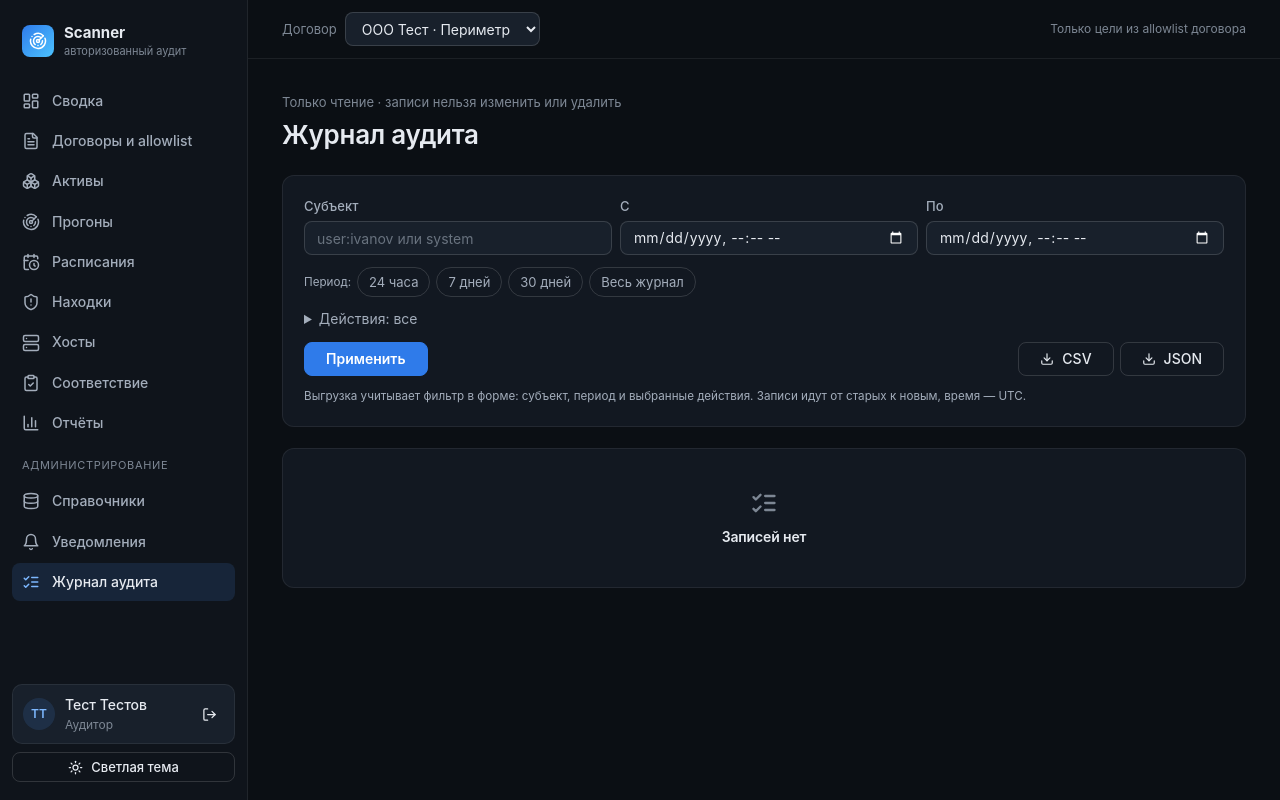
Test case: журнал аудита › не даёт выгрузить при перевёрнутом периоде
Expected: the heading "Записей нет" is shown, left=722, top=527, right=806, bottom=547
Type "2026-10-05T10:00" into the field labelled "С" at x=769, y=238, box left=620, top=221, right=918, bottom=255
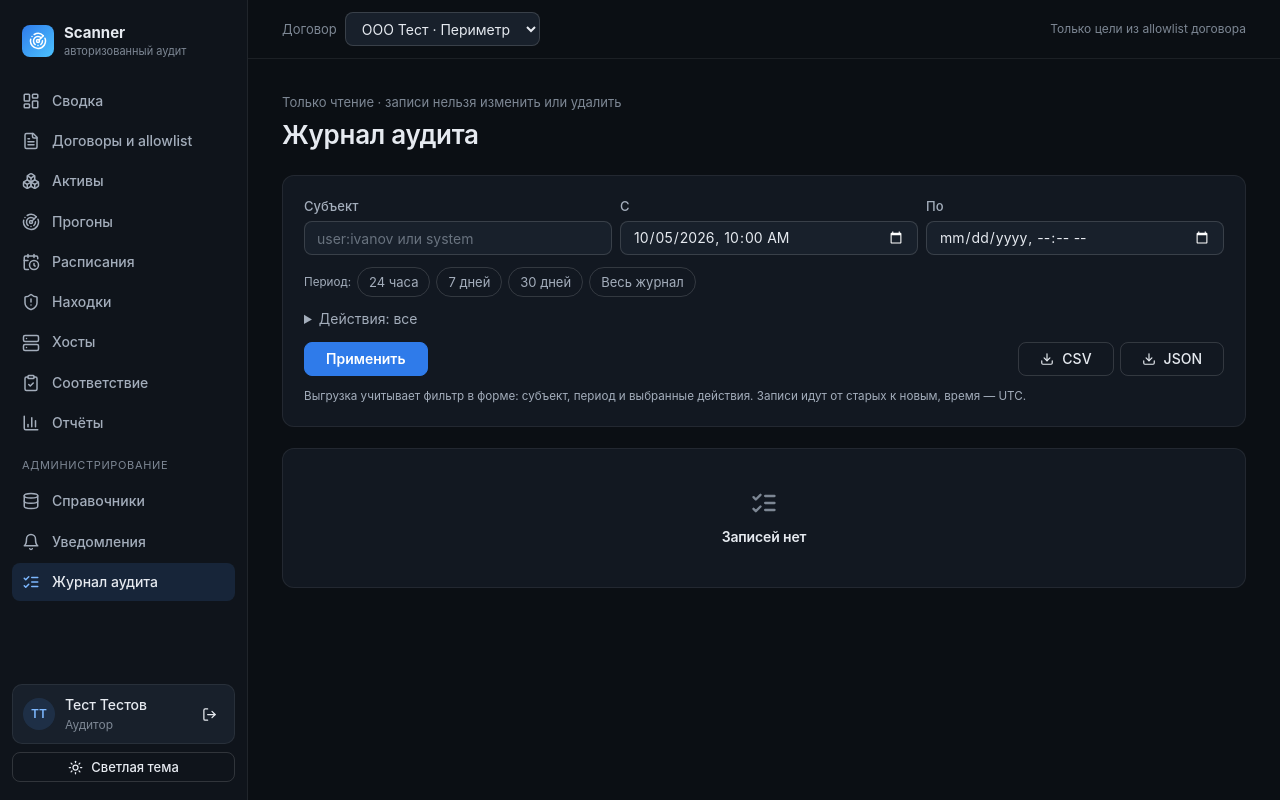
Type "2026-10-01T10:00" into the field labelled "По" at x=1075, y=238, box left=926, top=221, right=1224, bottom=255
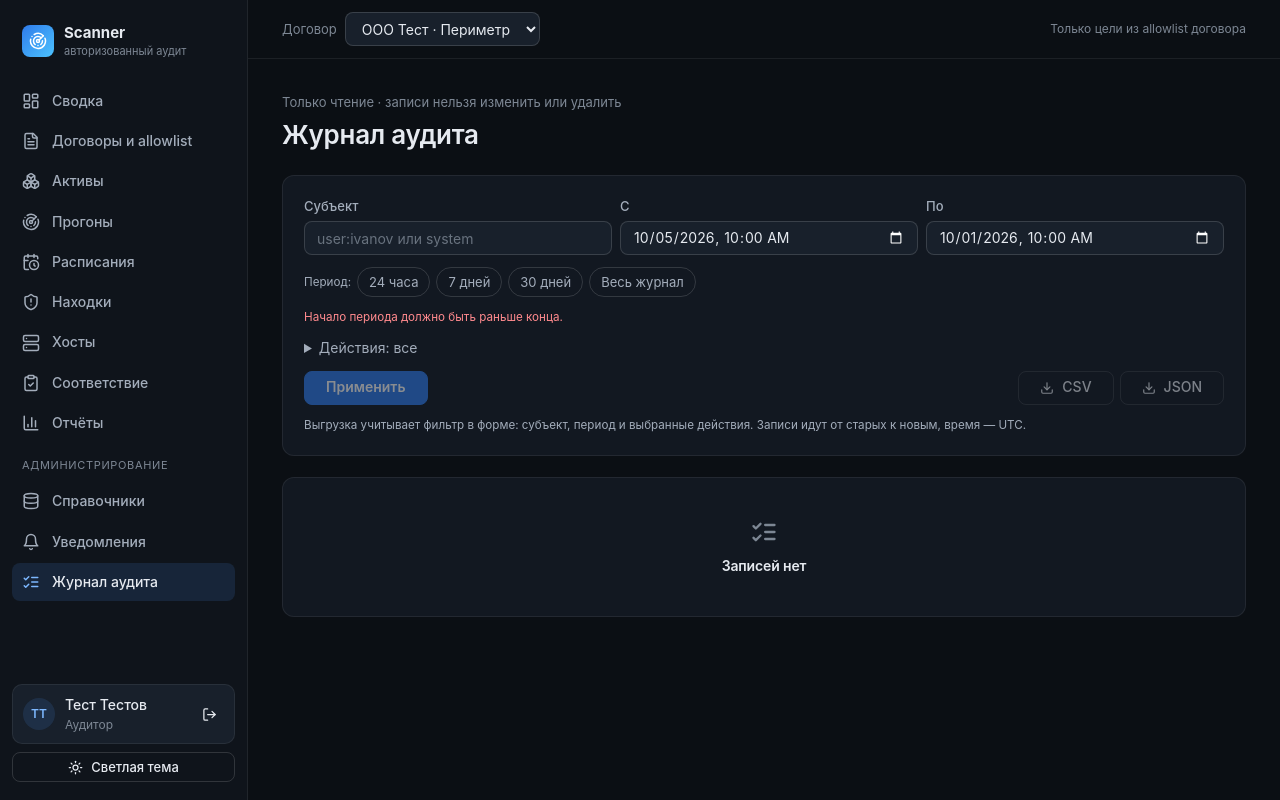
Expected: the text "Начало периода должно быть раньше конца." is shown, left=304, top=310, right=563, bottom=324
Expected: the button with aria-label "Выгрузить журнал JSON" is disabled, left=1120, top=371, right=1224, bottom=405
